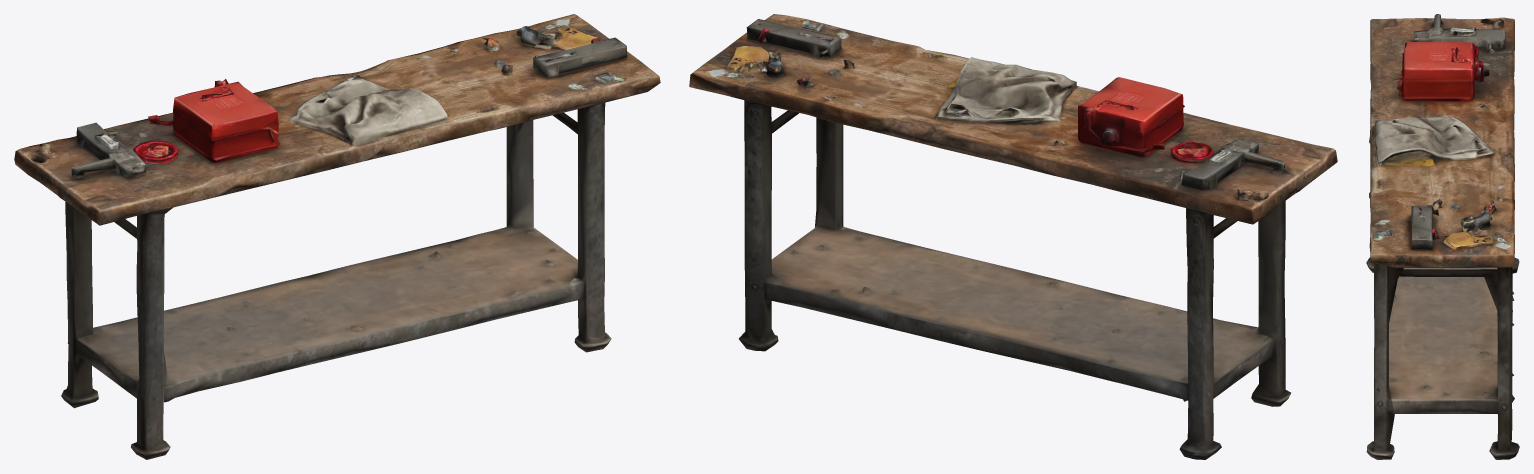
The model's file is workbench.glb.
The picture shows the model from 3 angles, left to right: view 1: azimuth 30°, elevation 25°; view 2: azimuth 150°, elevation 25°; view 3: azimuth 270°, elevation 25°; orthographic projection. The views are drawn at different scales.
Visible parts, largest first — view 1: tripo_node_80708b77-0918-40ea-a90f-d88b9e020212; view 2: tripo_node_80708b77-0918-40ea-a90f-d88b9e020212; view 3: tripo_node_80708b77-0918-40ea-a90f-d88b9e020212.
Boxes of the visible parts, x1,y1,x2,y2 form: tripo_node_80708b77-0918-40ea-a90f-d88b9e020212: (14,14,660,459); tripo_node_80708b77-0918-40ea-a90f-d88b9e020212: (689,14,1337,459); tripo_node_80708b77-0918-40ea-a90f-d88b9e020212: (1366,14,1519,459).
Bounding box in the file's own units: 1 × 0.5146 × 0.2733.
Materials: 1 (1 with a texture image).
